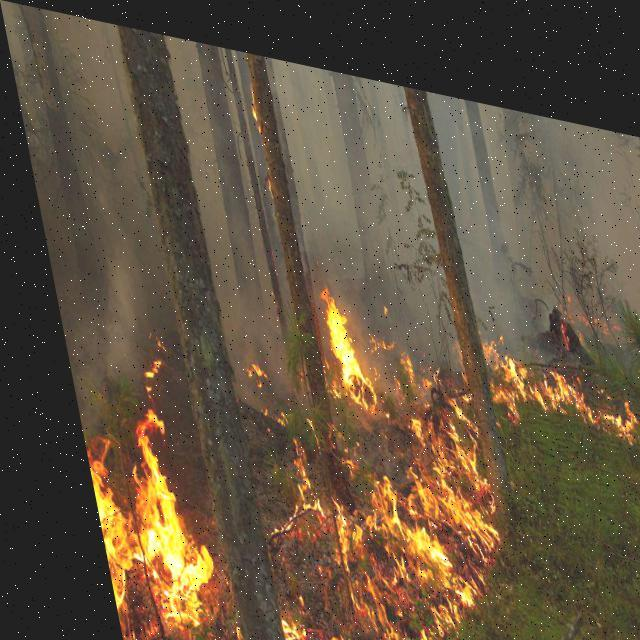Fire: (37, 233, 512, 639), (462, 262, 639, 442)
